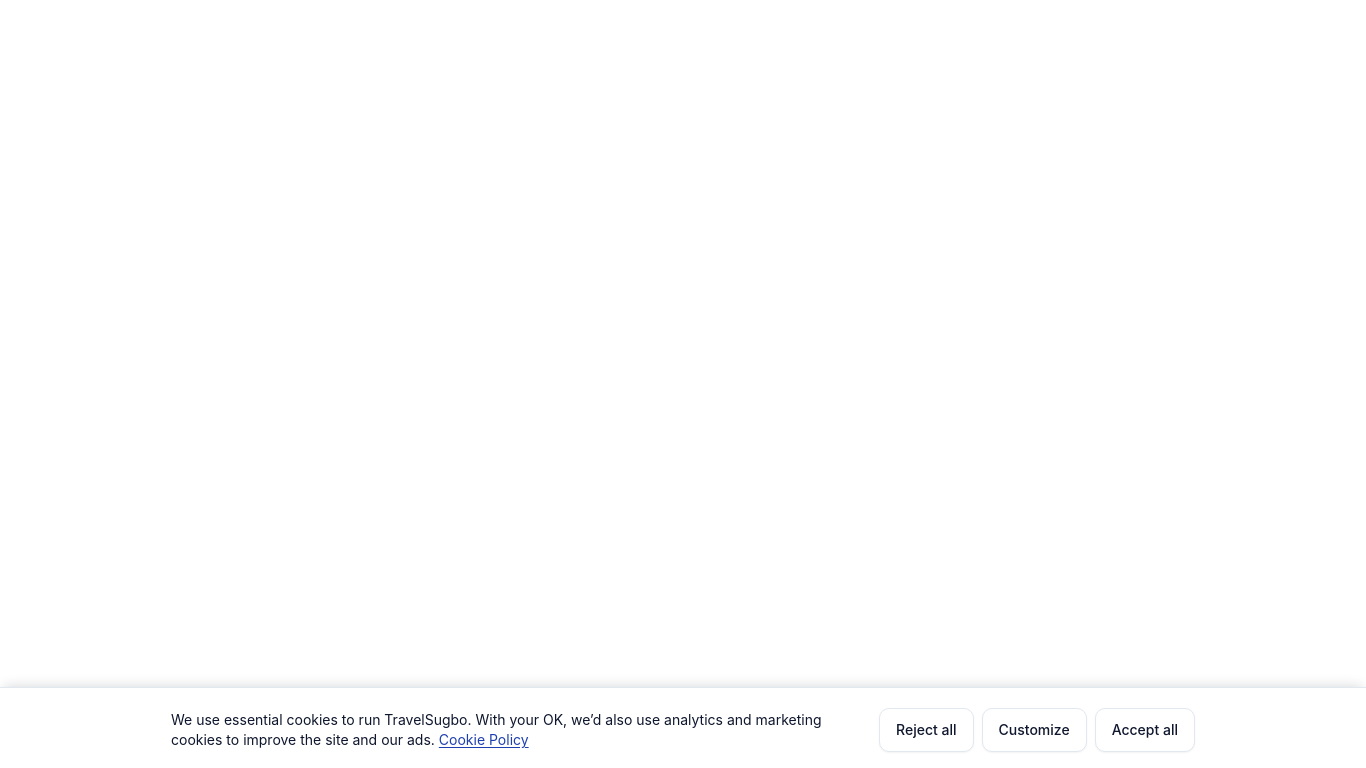
it: Customize panel › closes on Escape, without saving a choice
This screenshot has width=1366, height=768.
Click the button "Customize" at (1034, 730), box [982,708,1087,752]
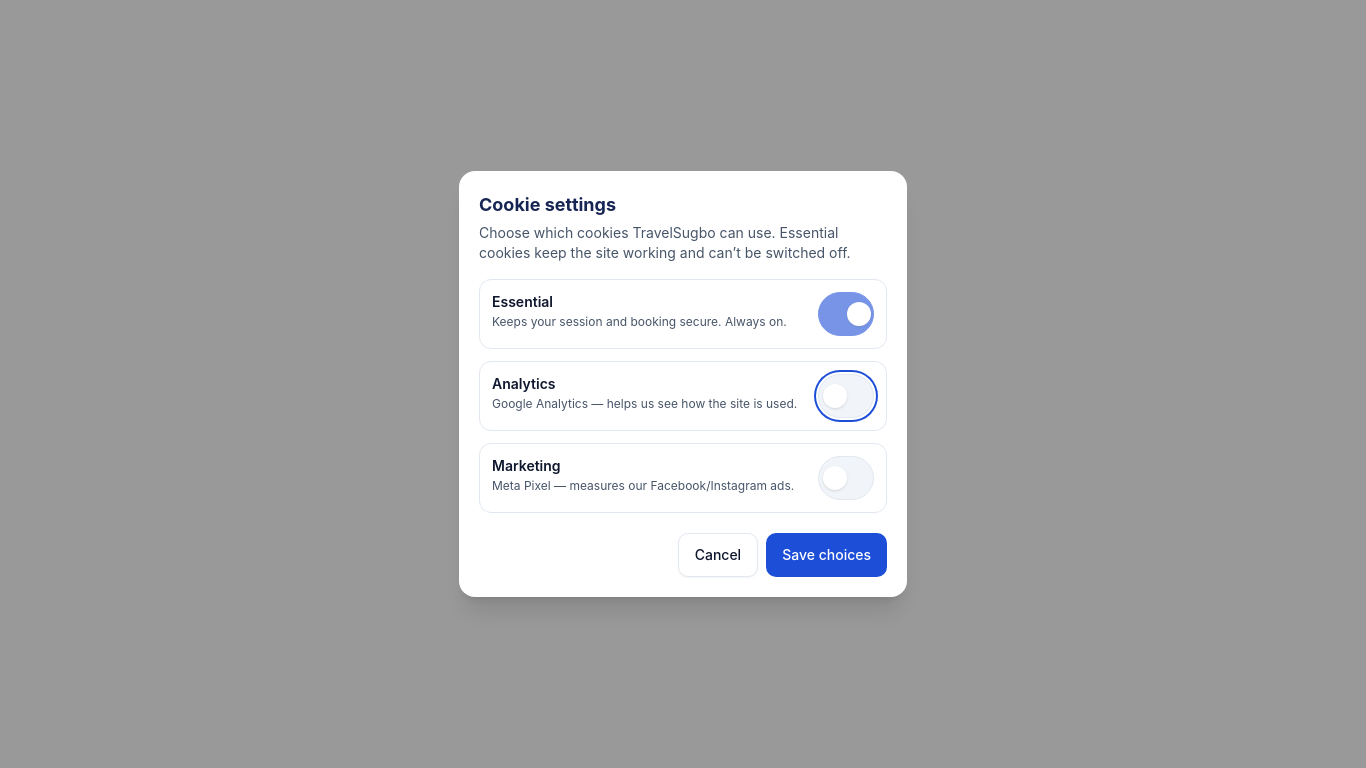
Now the dialog "Cookie settings" is shown, box [459,171,907,597]
Press Escape
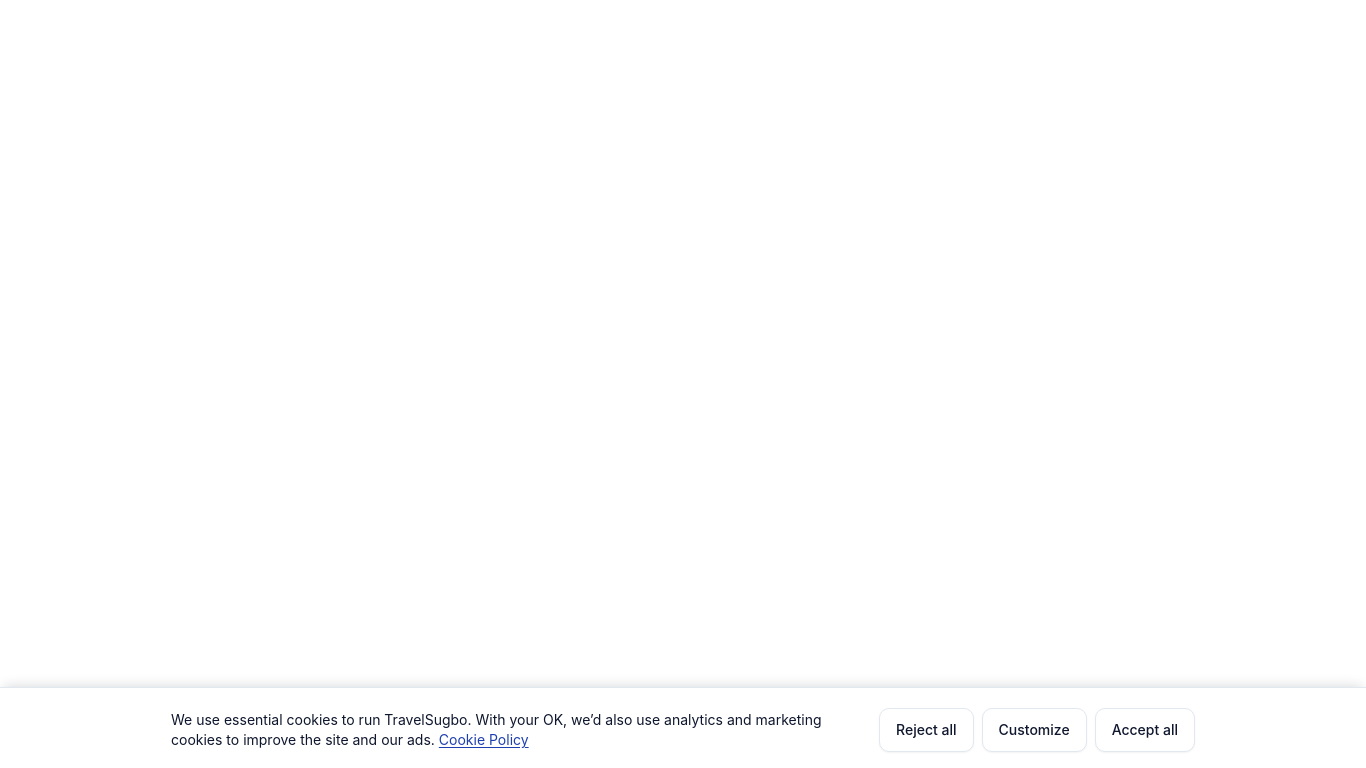
Now the heading "Cookie settings" is gone
Now the element named "Cookie consent" is shown, box [0,687,1365,767]
